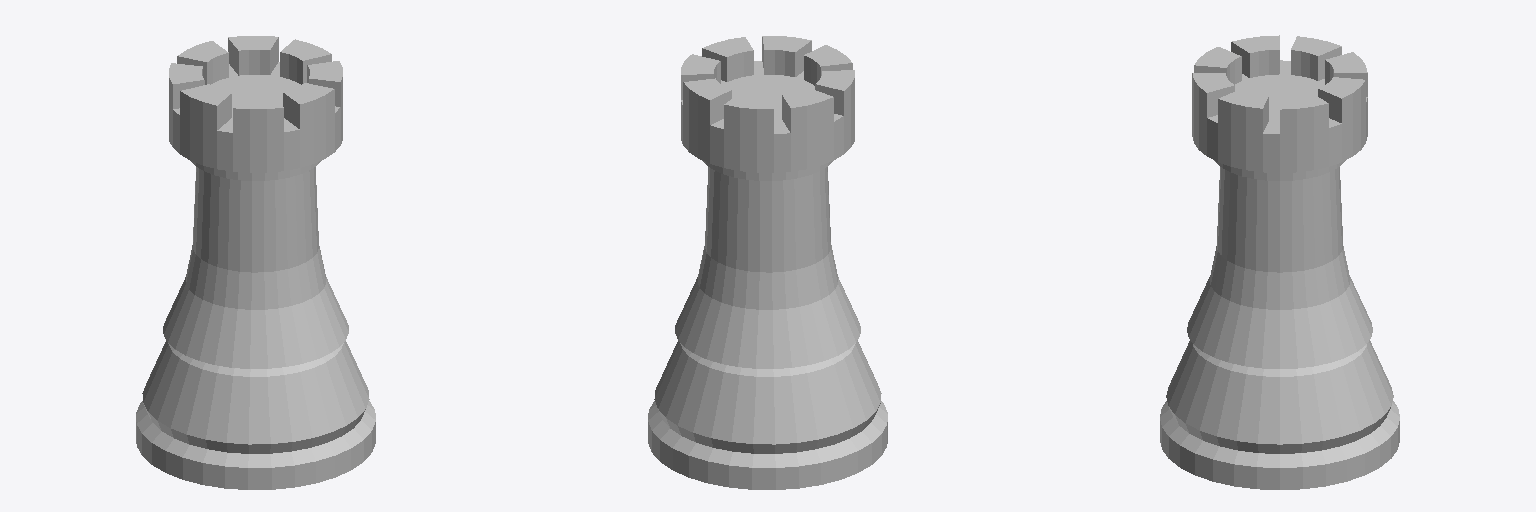
The model's file is rookwh.obj.
The picture shows the model from 3 angles: view 1: azimuth 30°, elevation 25°; view 2: azimuth 150°, elevation 25°; view 3: azimuth 270°, elevation 25°; orthographic projection.
Parts seen in each view (by area): view 1: Cylinder; view 2: Cylinder; view 3: Cylinder.
Part boxes in pixels (x1,y1,x2,y2): Cylinder: (136,36,375,489); Cylinder: (648,36,887,489); Cylinder: (1160,35,1399,489).
Bounding box in the file's own units: 2 × 3.36 × 2.